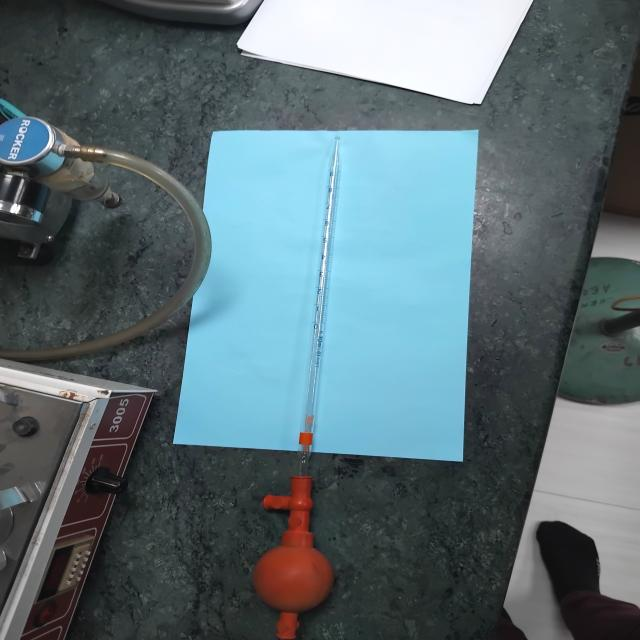Volumetric_Pipet: (244, 121, 386, 640)
